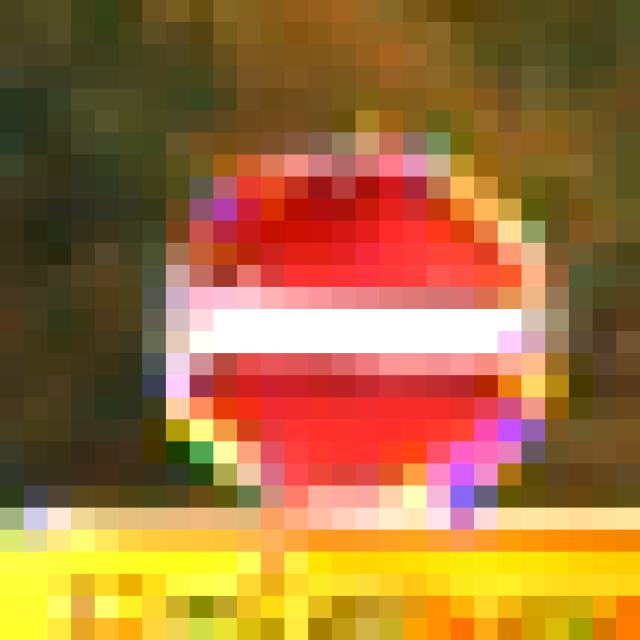No Entry: (120, 134, 523, 509)
